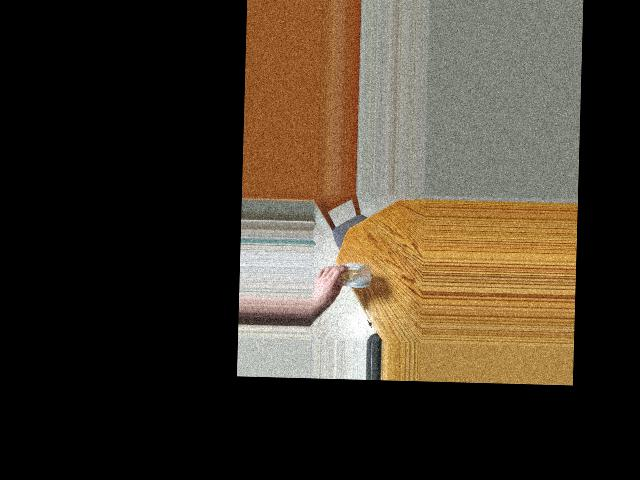cheese: (329, 255, 376, 297)
